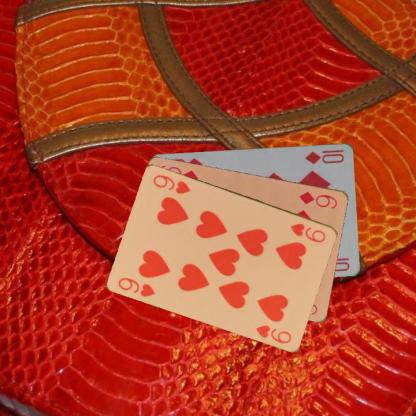10d: (302, 147, 346, 165)
6d: (296, 188, 340, 210)
9h: (288, 220, 327, 244), (116, 275, 156, 298)
